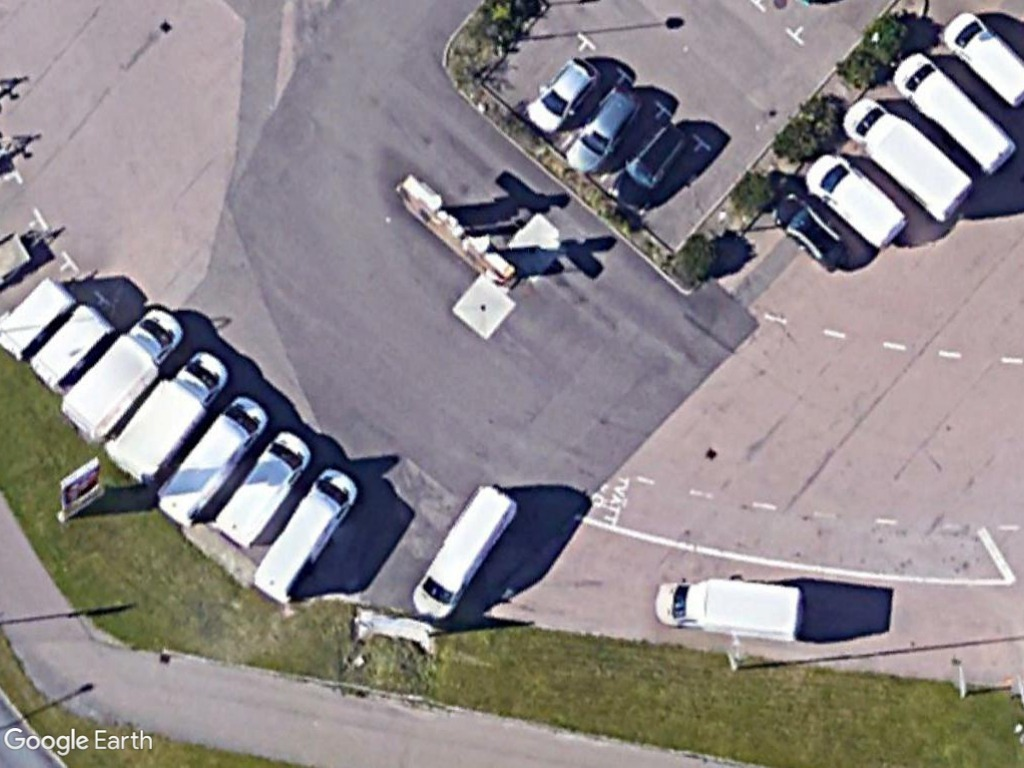car: (763, 184, 856, 274), (564, 84, 647, 179), (523, 55, 602, 135)
van: (840, 95, 979, 224), (57, 303, 186, 437), (891, 46, 1021, 178), (103, 349, 229, 483), (407, 483, 521, 629), (248, 463, 360, 610), (154, 396, 270, 525), (212, 427, 312, 547), (804, 148, 908, 251), (650, 574, 806, 639), (941, 8, 1024, 111)
